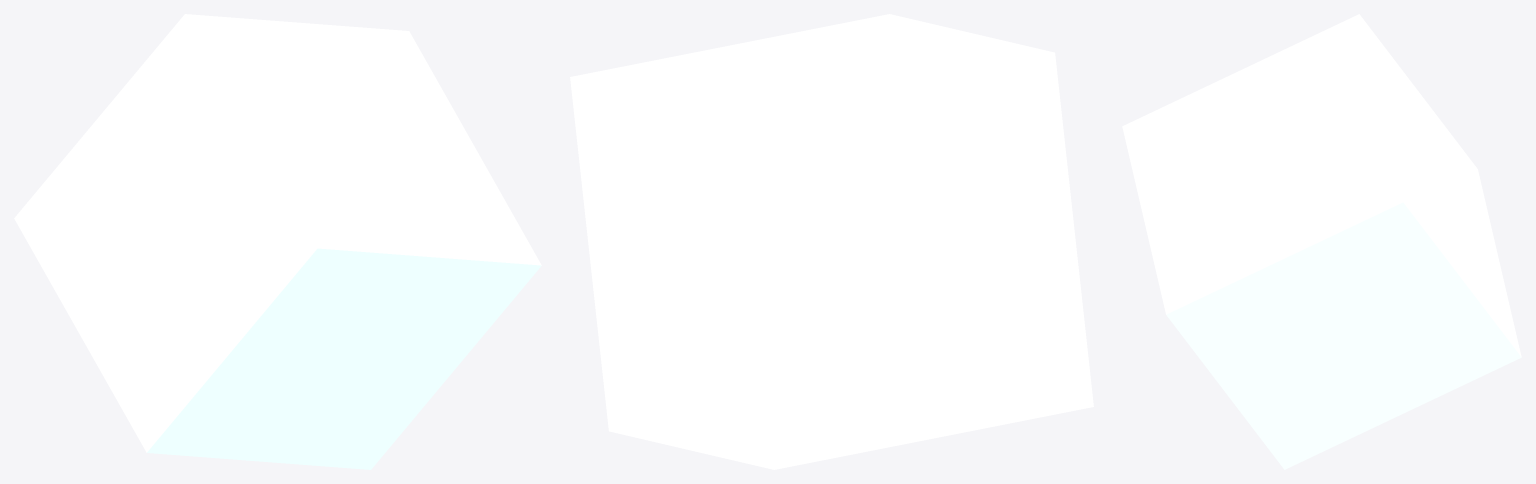
File: spark.glb
The picture shows the model from 3 angles, left to right: view 1: azimuth 30°, elevation 25°; view 2: azimuth 150°, elevation 25°; view 3: azimuth 270°, elevation 25°; orthographic projection. The views are drawn at different scales.
Parts seen in each view (by area): view 1: Spark; view 2: Spark; view 3: Spark.
Part boxes in pixels (x1,y1,x2,y2): Spark: (14, 14, 541, 469); Spark: (570, 14, 1093, 469); Spark: (1122, 14, 1521, 469).
Bounding box in the file's own units: 0.1322 × 0.1626 × 0.1487.
